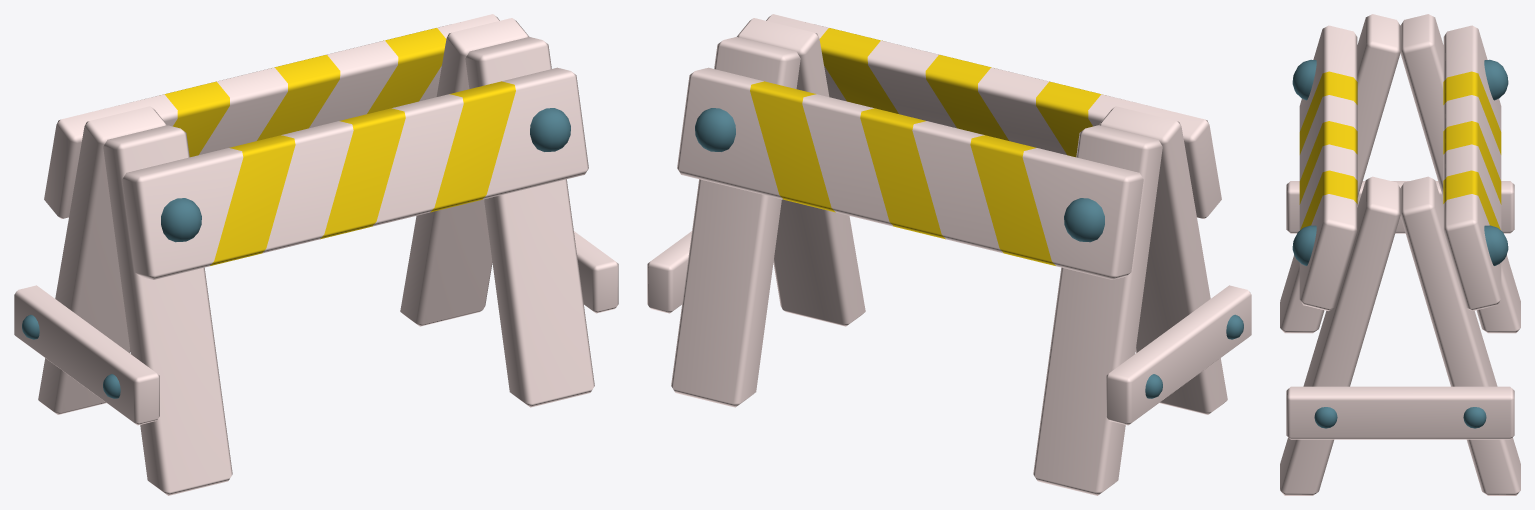
File: Town_6_Ial_6_Road_Fence_1.glb
3 views of the same model, side by side, from view 1: azimuth 30°, elevation 25°; view 2: azimuth 150°, elevation 25°; view 3: azimuth 270°, elevation 25° (orthographic). The views are drawn at different scales.
Parts seen in each view (by area): view 1: Town_6_Ial_6_Road_Fence_1; view 2: Town_6_Ial_6_Road_Fence_1; view 3: Town_6_Ial_6_Road_Fence_1.
Boxes of the visible parts, x1=… form: Town_6_Ial_6_Road_Fence_1: x1=14, y1=14, x2=618, y2=495; Town_6_Ial_6_Road_Fence_1: x1=647, y1=14, x2=1251, y2=495; Town_6_Ial_6_Road_Fence_1: x1=1280, y1=14, x2=1520, y2=495.
Bounding box in the file's own units: 1.84 × 1.11 × 0.8274.
1 material, 1 textured.
